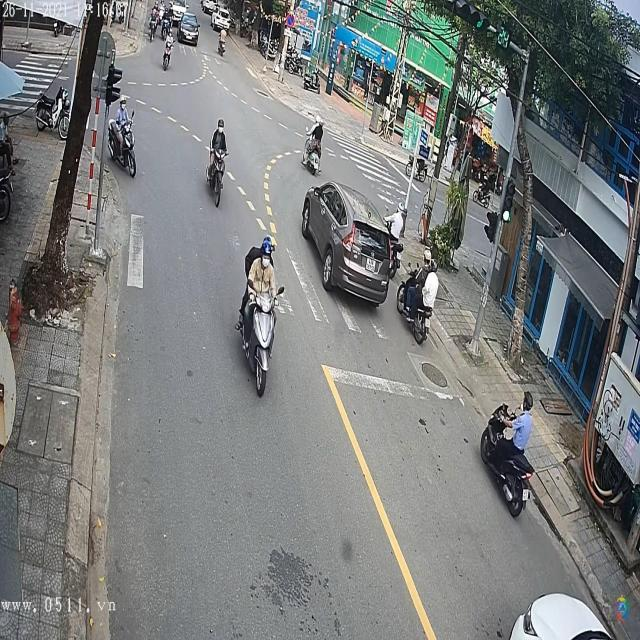car: (300, 181, 404, 306), (179, 14, 201, 43)
motorcycle: (478, 396, 540, 518), (237, 264, 285, 397), (106, 107, 139, 180), (203, 140, 228, 206), (302, 129, 323, 177), (161, 40, 173, 71)
